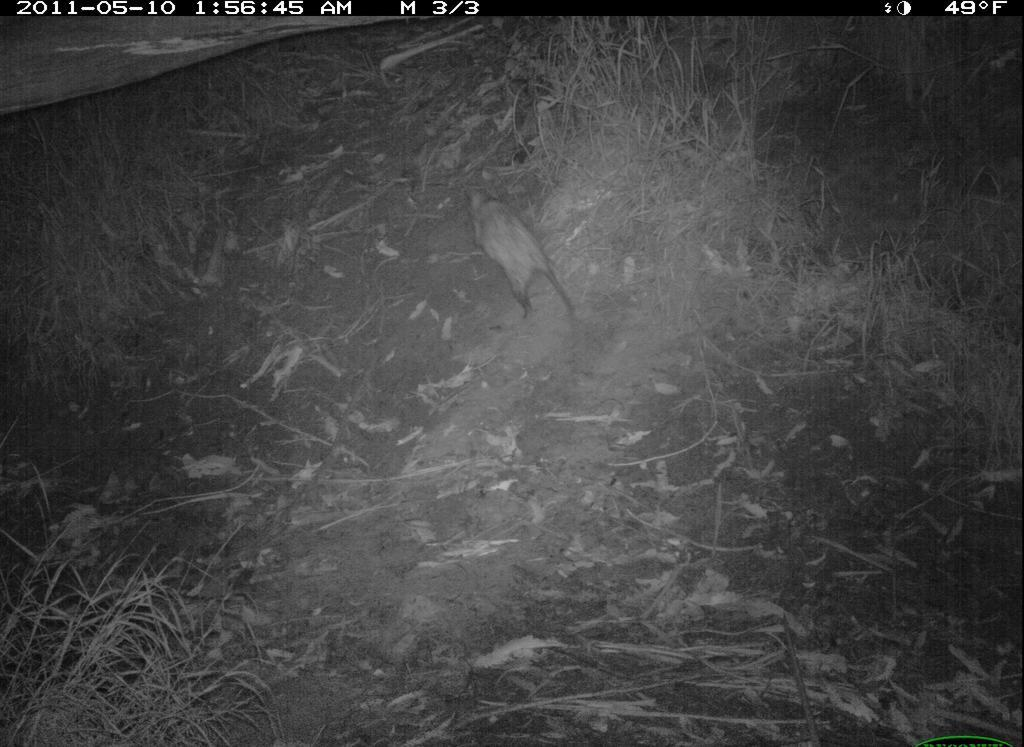opossum: (454, 185, 592, 349)
